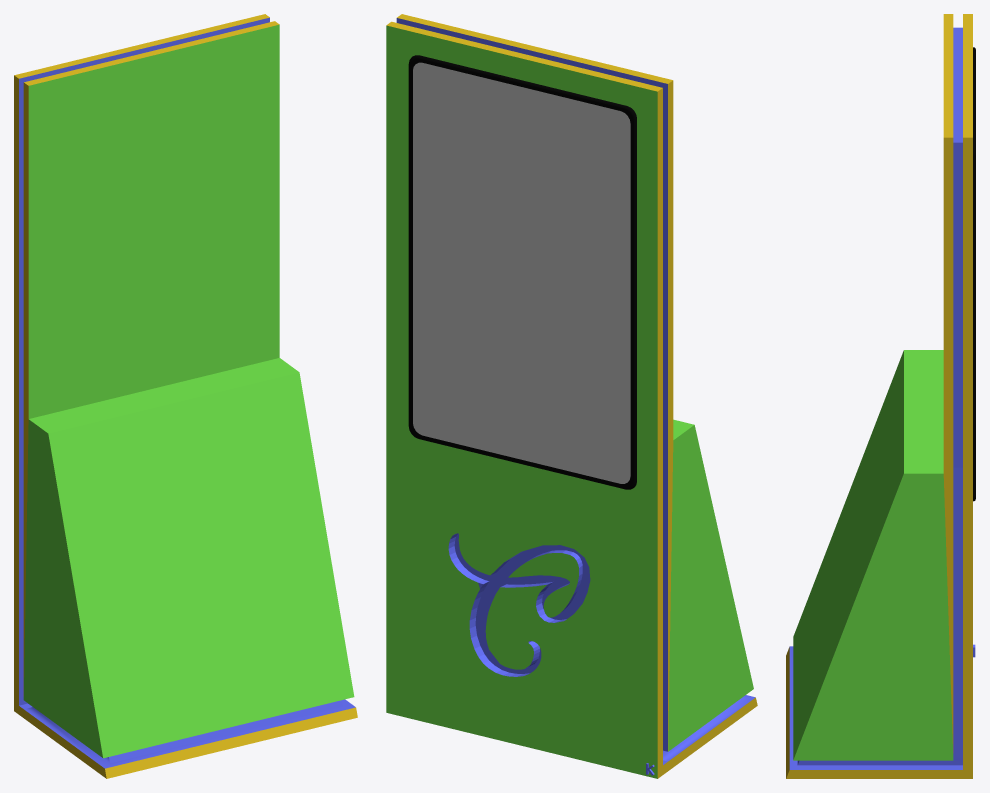
File: tablettactilv3.fbx
3 views of the same model, side by side, from view 1: azimuth 30°, elevation 25°; view 2: azimuth 150°, elevation 25°; view 3: azimuth 270°, elevation 25° (orthographic). The views are drawn at different scales.
Visible parts, largest first — view 1: Cube.001; view 2: Cube.001, TabletBody; view 3: Cube.001, TabletBody.
Part boxes in pixels (x1,y1,x2,y2): Cube.001: (14,14,357,778); Cube.001: (386,14,757,778); TabletBody: (408,55,636,489); Cube.001: (786,14,975,778); TabletBody: (973,47,975,501).
Bounding box in the file's own units: 35.03 × 84.74 × 22.71.
